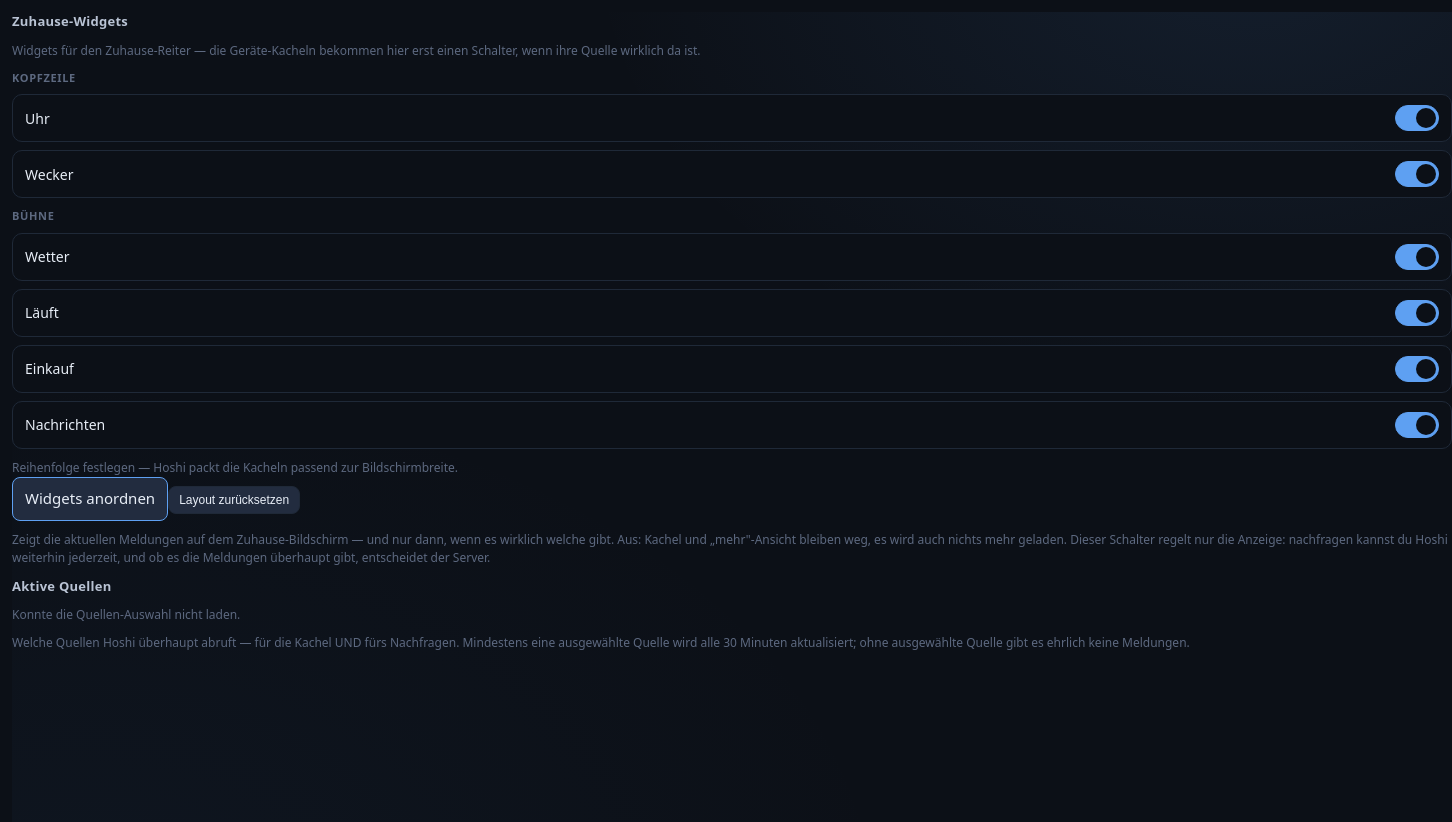
Test: HomeTilesSection — Layout zurücksetzen (W3) › ein Klick schärft nur — erst der zweite setzt zurück
The image size is (1452, 822).
Click the button "Layout zurücksetzen". click: (234, 500)
box: 168,486 -> 300,514
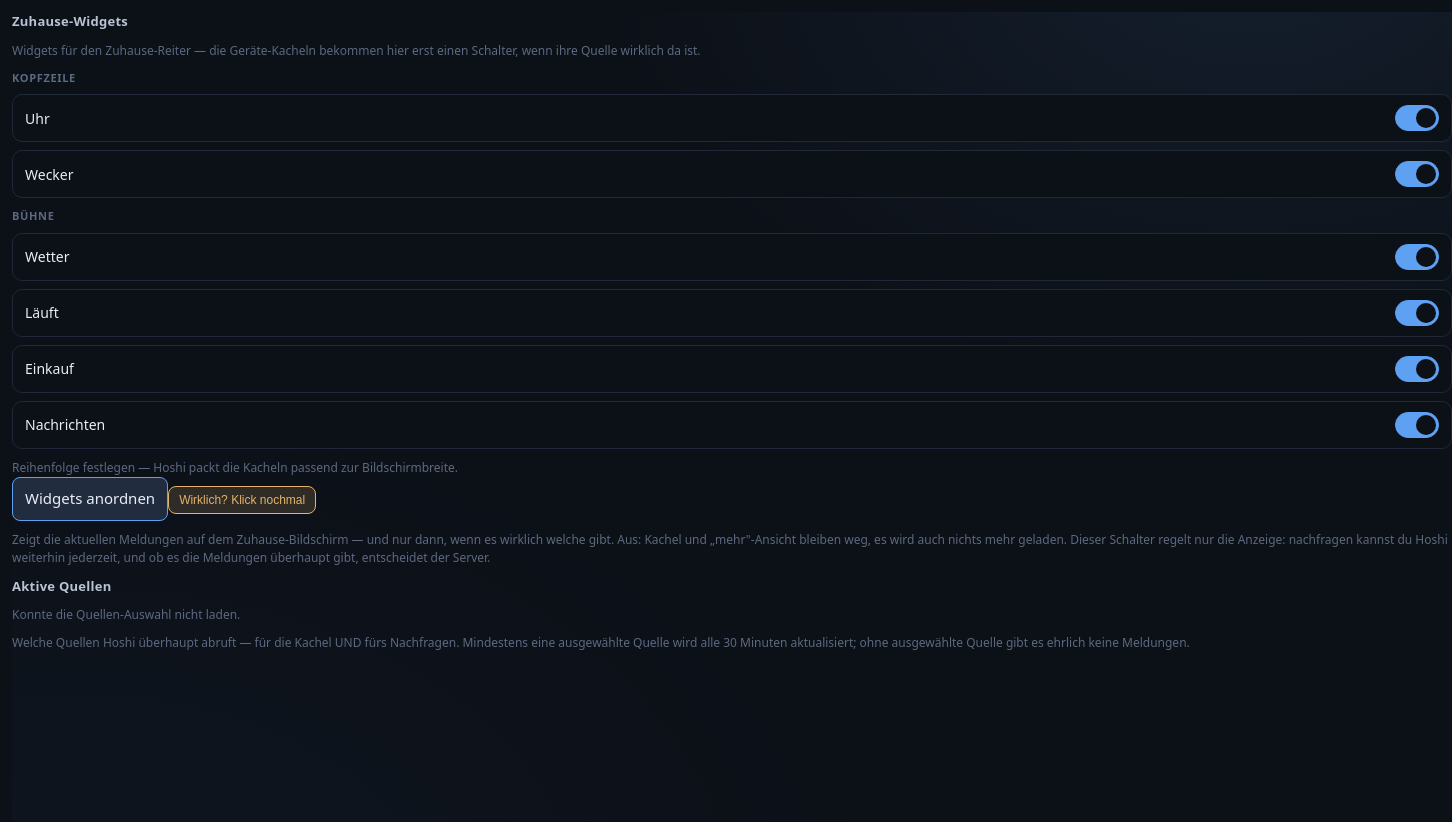
Check: the button "Wirklich? Klick nochmal" is shown
Click the button "Wirklich? Klick nochmal". click: (242, 500)
box: 168,486 -> 316,514
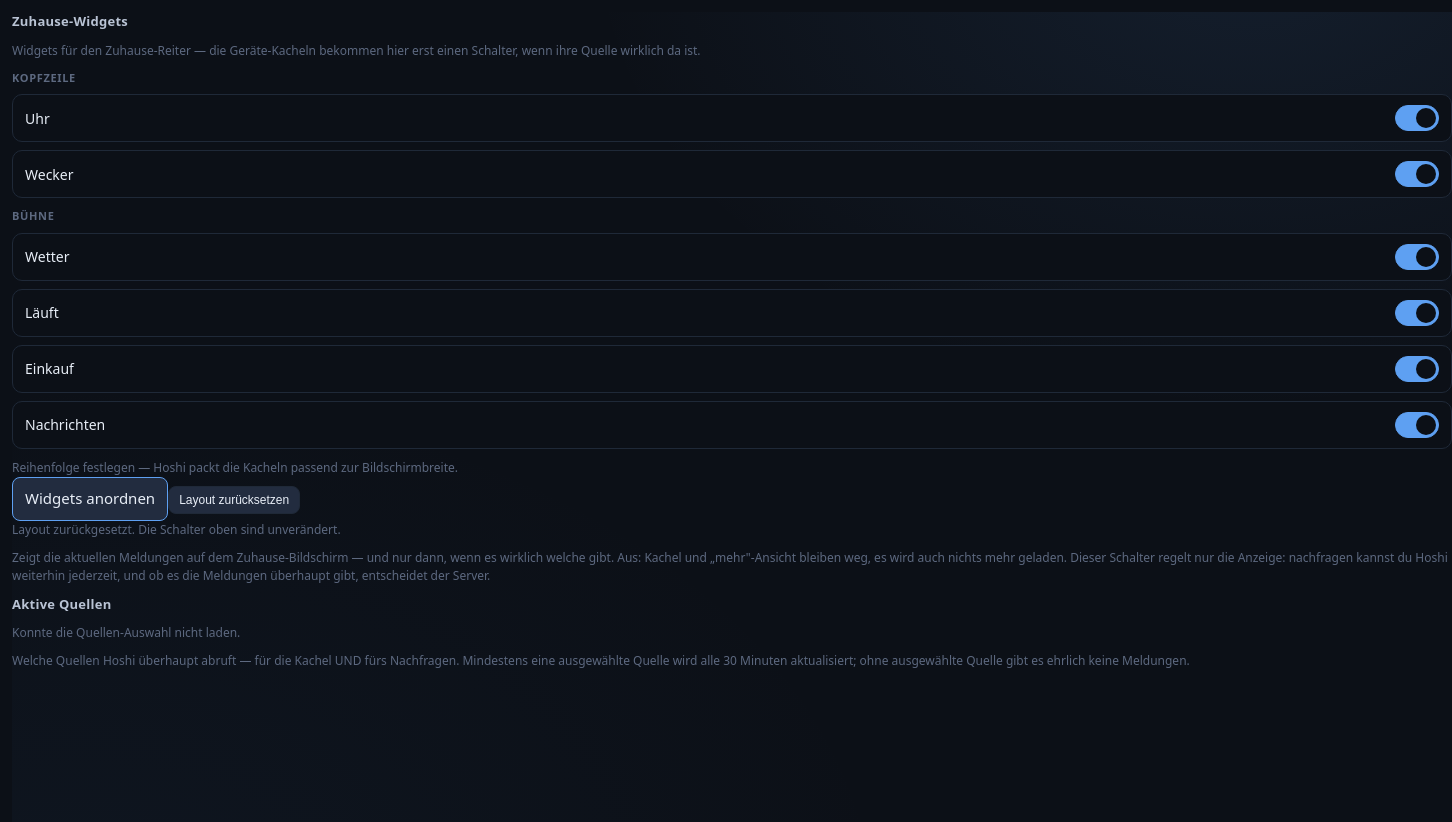
Check: the text "Layout zurückgesetzt" is shown, box 12,520 -> 341,538
